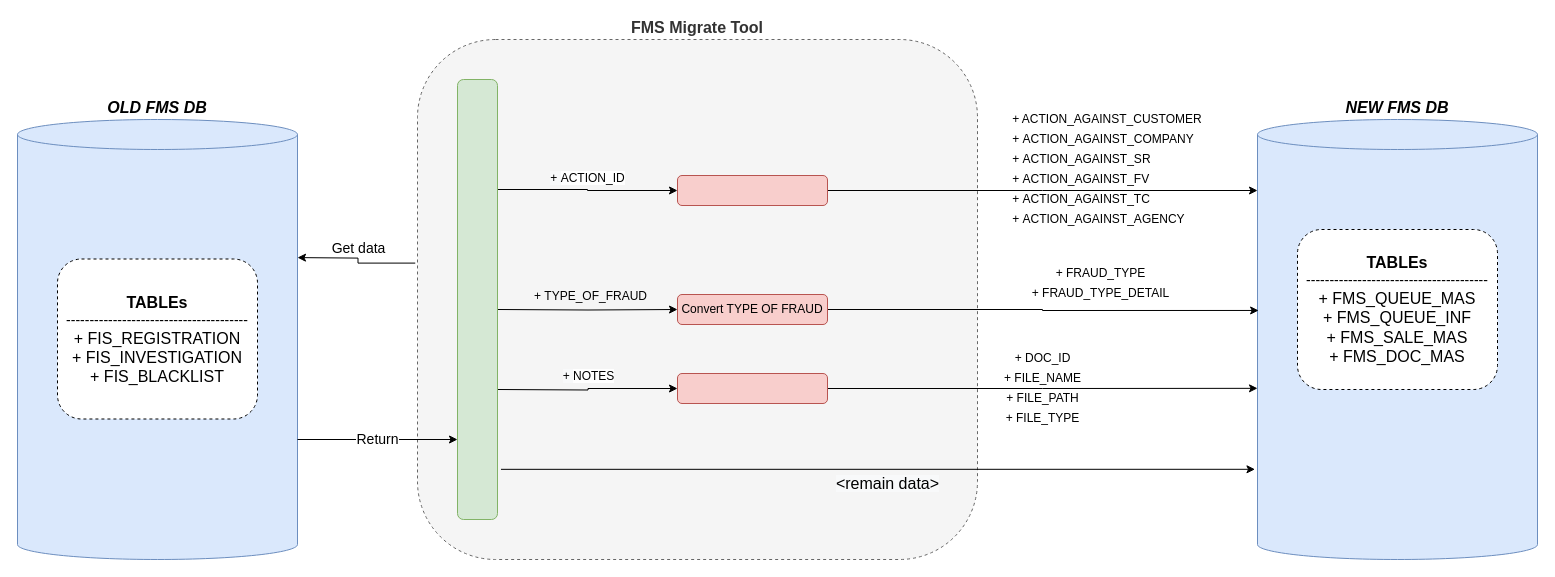
Image size: 1555x577. Some labels were removed from this diagram. The box of each missing label's shape, as (x1, y1, x2, y2) in pixels:
Convert ACTIONs: (676, 174, 828, 206)
Convert Description: (676, 372, 828, 404)
Raw data: (456, 78, 498, 520)
